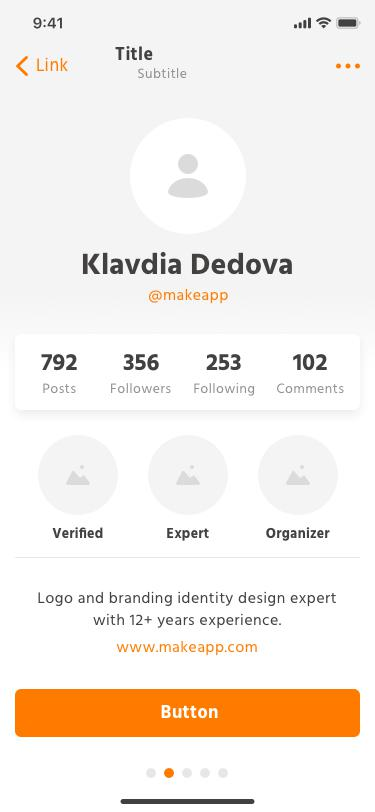Icon: (130, 119, 246, 236), (17, 57, 30, 78), (335, 63, 361, 70)
Image: (258, 436, 338, 515), (39, 435, 119, 514), (149, 435, 228, 514)
PageIndicator: (146, 767, 230, 779)
Text: (38, 592, 336, 629), (83, 251, 294, 276), (117, 641, 258, 656), (149, 289, 230, 304), (266, 527, 330, 542), (193, 383, 256, 397), (276, 383, 345, 394), (40, 354, 80, 371), (53, 526, 105, 539), (111, 383, 172, 394), (123, 354, 161, 371), (138, 68, 189, 80), (292, 354, 328, 371), (167, 528, 210, 542), (207, 354, 242, 371), (115, 47, 155, 61), (37, 58, 69, 73), (43, 384, 78, 394)
TextButton: (16, 689, 361, 737)
UpperTaskBar: (33, 16, 362, 30)
